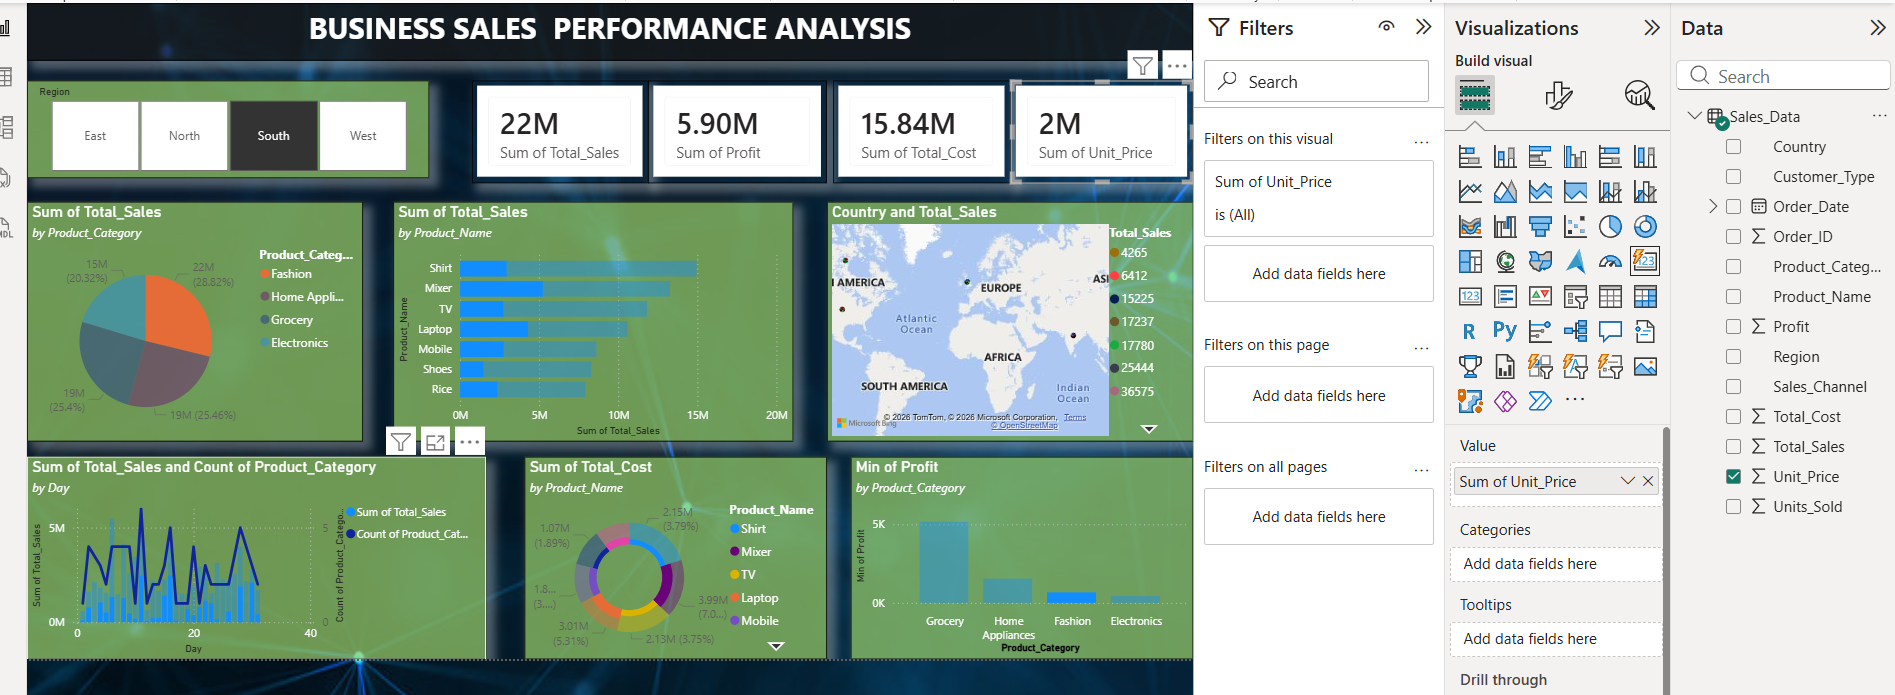

Layout of this report page (visuals, bound fields, positions):
{"tool":"powerbi","page":{"name":"Page 1","canvas":[1280,720],"ordinal":0},"visuals":[{"type":"cardVisual","fields":{"Data":["Sum(Sales_Data.Total_Sales)"]},"box":[488.5,85.1,193.5,112.5],"z":0},{"type":"cardVisual","fields":{"Data":["Sum(Sales_Data.Profit)"]},"box":[682,85.1,196.2,112.5],"z":1000},{"type":"cardVisual","fields":{"Data":["Sum(Sales_Data.Total_Cost)"]},"box":[885.1,85.1,194.9,112.5],"z":2000},{"type":"cardVisual","fields":{"Data":["Sum(Sales_Data.Unit_Price)"]},"box":[1079.9,85.1,200.3,112.5],"z":3000},{"type":"pieChart","fields":{"Category":["Sales_Data.Product_Category"],"Y":["Sum(Sales_Data.Total_Sales)"]},"box":[0,218.2,369.1,263.5],"z":4000},{"type":"barChart","fields":{"Category":["Sales_Data.Product_Name"],"Y":["Sum(Sales_Data.Total_Sales)"]},"box":[402.1,218.2,439.1,263.5],"z":5000},{"type":"map","fields":{"Category":["Sales_Data.Country"],"Series":["Sales_Data.Total_Sales"]},"box":[878.2,218.2,402.1,263.5],"z":6000},{"type":"lineClusteredColumnComboChart","fields":{"Y":["Sum(Sales_Data.Total_Sales)"],"Y2":["CountNonNull(Sales_Data.Product_Category)"],"Category":["Sales_Data.Order_Date.Variation.Date Hierarchy.Day"]},"box":[0,498.1,503.6,222.3],"z":7000},{"type":"donutChart","fields":{"Y":["Sum(Sales_Data.Total_Cost)"],"Category":["Sales_Data.Product_Name"]},"box":[546.1,498.1,332.1,222.3],"z":8000},{"type":"clusteredColumnChart","fields":{"Category":["Sales_Data.Product_Category"],"Y":["Min(Sales_Data.Profit)"]},"box":[904,498,376,222],"z":9000},{"type":"slicer","fields":{"Values":["Sales_Data.Region"]},"box":[0,85.1,441.9,107],"z":10000},{"type":"textbox","box":[0,0,1280.3,63.1],"z":11000}]}

Visuals, with their boxes in screenshot pixels (x1, y1, x2, y2):
cardVisual - Sum(Sales_Data.Total_Sales): 464:73:642:177
cardVisual - Sum(Sales_Data.Profit): 642:73:822:177
cardVisual - Sum(Sales_Data.Total_Cost): 828:73:1008:177
cardVisual - Sum(Sales_Data.Unit_Price): 1008:73:1192:177
pieChart - Sales_Data.Product_Category x Sum(Sales_Data.Total_Sales): 15:196:354:438
barChart - Sales_Data.Product_Name x Sum(Sales_Data.Total_Sales): 384:196:788:438
map - Sales_Data.Country x Sales_Data.Total_Sales: 822:196:1192:438
lineClusteredColumnComboChart - Sum(Sales_Data.Total_Sales) x CountNonNull(Sales_Data.Product_Category): 15:453:478:657
donutChart - Sum(Sales_Data.Total_Cost) x Sales_Data.Product_Name: 517:453:822:657
clusteredColumnChart - Sales_Data.Product_Category x Min(Sales_Data.Profit): 846:453:1191:657
slicer - Sales_Data.Region: 15:73:421:172
textbox: 15:0:1192:53
